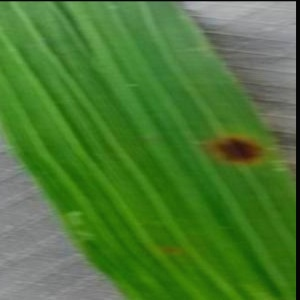Bacterial_Leaf_Blight: (201, 119, 281, 179)
